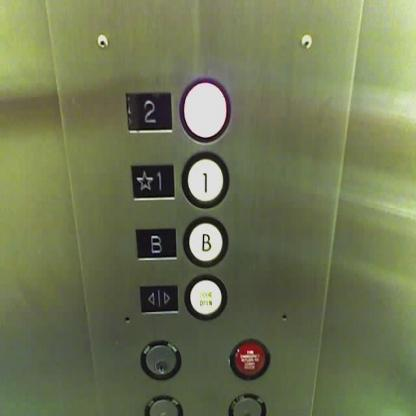1: (179, 148, 231, 211)
2: (122, 88, 175, 135)
B: (182, 213, 230, 266), (132, 225, 178, 260)
empty: (178, 74, 232, 145)
keyhole: (139, 336, 181, 380)
open: (136, 282, 180, 314)
s1: (128, 162, 177, 200)
text: (183, 271, 227, 320), (228, 335, 271, 382)
